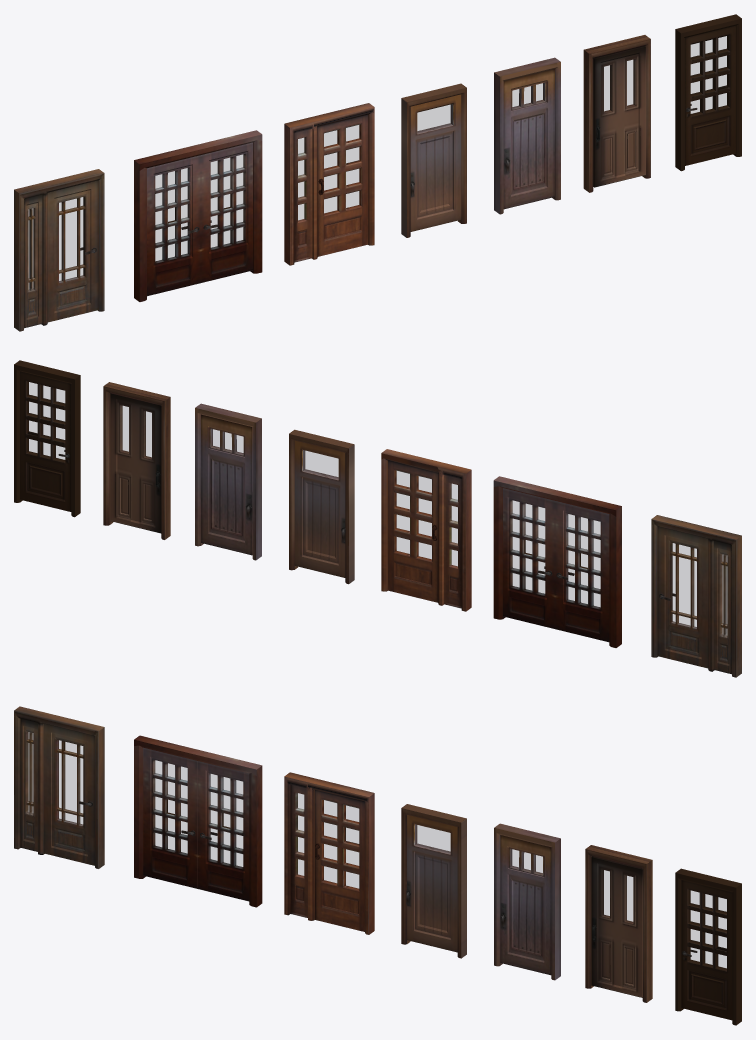
Rendered from front_doors_pack.glb.
3 views of the same model, one above another, from view 1: azimuth 30°, elevation 25°; view 2: azimuth 150°, elevation 25°; view 3: azimuth 330°, elevation 25° (orthographic).
Parts seen in each view (by area): view 1: Front Door_003.001, Front Door_002, Front Door_001, Front Door_005, Front Door_006, Front Door_003, Front Door_008, Front Door_007, Front Doorframe_005, Front Doorframe_006, Front Doorframe_002, Wooden Doorframe_001.001 (+3 smaller); view 2: Front Door_003.001, Front Door_001, Front Door_005, Front Door_008, Front Door_002, Front Door_006, Front Door_003, Front Door_007, Front Doorframe_005, Front Doorframe_006, Front Doorframe_002, Wooden Doorframe_001.001 (+3 smaller); view 3: Front Door_003.001, Front Door_003, Front Door_005, Front Door_002, Front Door_008, Front Door_001, Front Door_006, Front Doorframe_005, Front Door_007, Front Doorframe_006, Front Doorframe_002, Wooden Doorframe_001.001 (+3 smaller).
Boxes of the visible parts, box(x1,y1,x2,y2) form: Front Door_003.001: box(147, 155, 200, 296); Front Door_002: box(593, 46, 645, 187); Front Door_001: box(317, 114, 368, 256); Front Door_005: box(47, 180, 98, 322); Front Door_006: box(503, 69, 554, 209); Front Door_003: box(201, 142, 252, 282); Front Door_008: box(685, 25, 735, 165); Front Door_007: box(410, 94, 461, 231); Front Doorframe_005: box(284, 103, 374, 265); Front Doorframe_006: box(14, 169, 104, 331); Front Doorframe_002: box(134, 130, 262, 301); Wooden Doorframe_001.001: box(583, 35, 650, 192); Front Door_003.001: box(555, 501, 609, 642); Front Door_001: box(387, 460, 438, 602); Front Door_005: box(657, 526, 708, 668); Front Door_008: box(20, 371, 71, 511); Front Door_002: box(110, 393, 161, 533); Front Door_006: box(201, 414, 252, 555); Front Door_003: box(503, 488, 554, 628); Front Door_007: box(294, 440, 345, 577); Front Doorframe_005: box(381, 449, 471, 611); Front Doorframe_006: box(651, 515, 741, 677); Front Doorframe_002: box(493, 476, 621, 647); Wooden Doorframe_001.001: box(103, 382, 170, 539); Front Door_003.001: box(143, 747, 197, 888); Front Door_003: box(197, 761, 249, 901); Front Door_005: box(43, 723, 94, 865); Front Door_002: box(591, 856, 642, 997); Front Door_008: box(681, 880, 732, 1020); Front Door_001: box(314, 790, 364, 931); Front Door_006: box(500, 835, 551, 975); Front Doorframe_005: box(284, 772, 374, 934); Front Door_007: box(407, 815, 457, 952); Front Doorframe_006: box(14, 706, 104, 868); Front Doorframe_002: box(134, 735, 262, 907); Wooden Doorframe_001.001: box(585, 845, 652, 1002).
Size of the model in its own units: 11.61 by 2.14 by 0.2002.
Materials: 2 (1 with a texture image).
